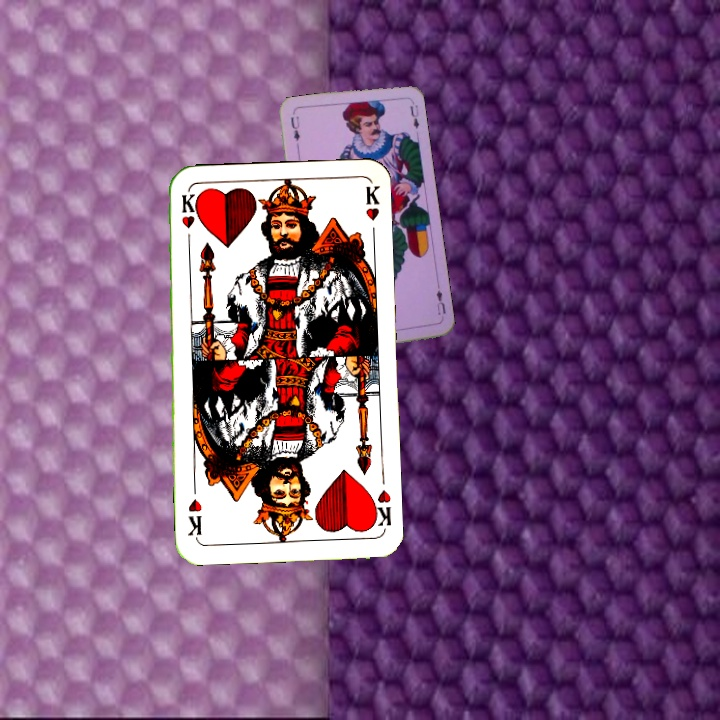EU: (432, 282, 448, 322), (286, 112, 302, 152)
HK: (366, 486, 394, 530), (177, 190, 197, 249)
